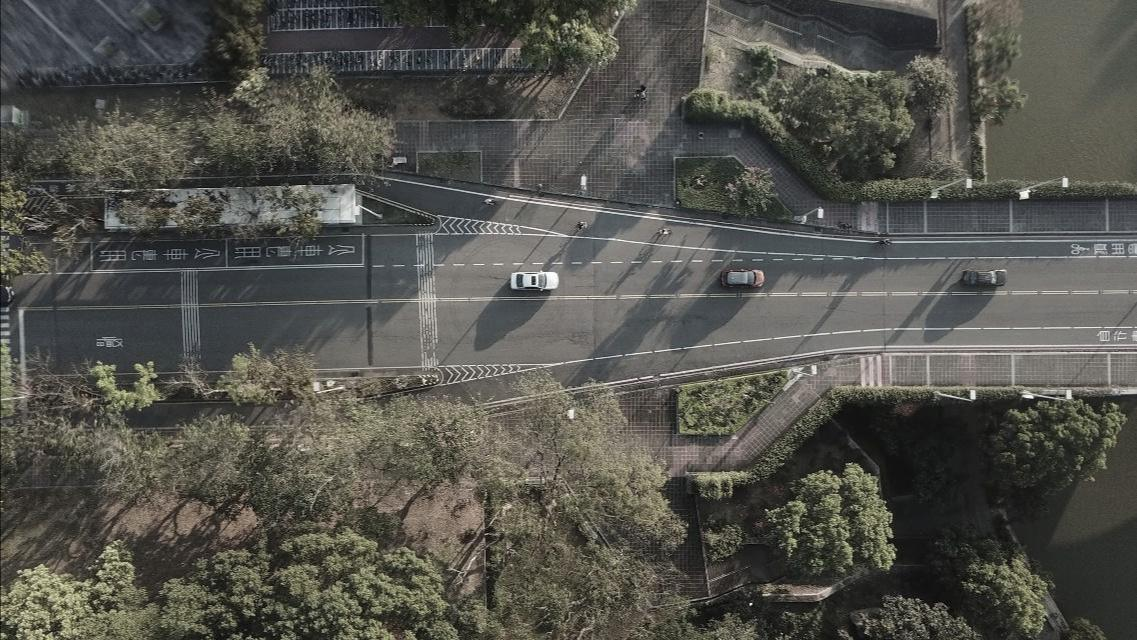vehicle: (510, 270, 558, 292), (720, 268, 764, 287), (962, 269, 1007, 286)
